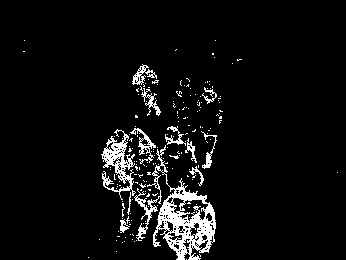person: (129, 126, 163, 246), (102, 127, 134, 240), (179, 171, 217, 260), (194, 80, 225, 169), (155, 121, 187, 186), (171, 76, 195, 145), (141, 58, 163, 117)
